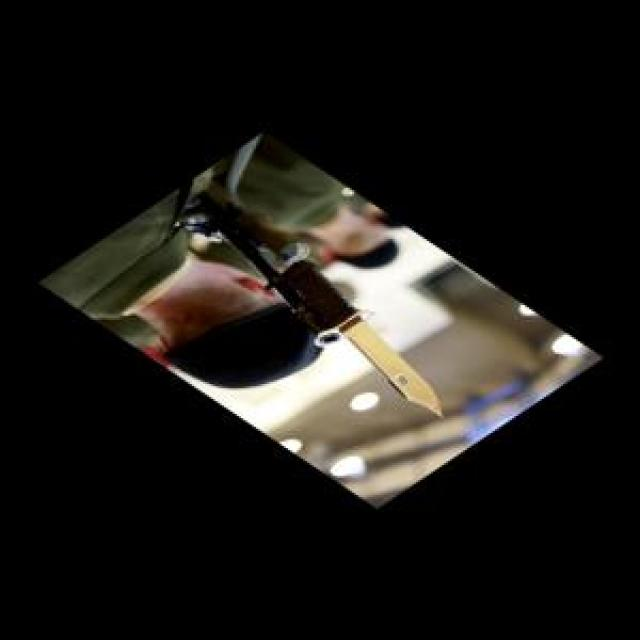knife: (200, 192, 456, 418)
